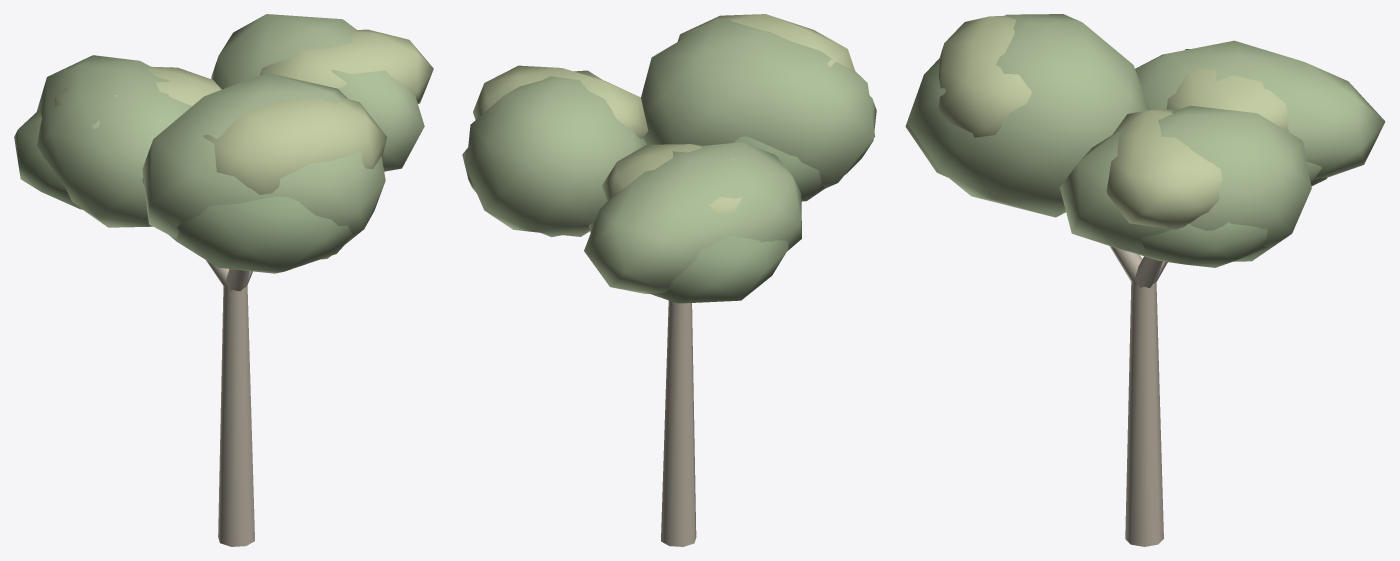
Rendered from tree_eucalyptus_0.glb.
The picture shows the model from 3 angles, left to right: view 1: azimuth 30°, elevation 25°; view 2: azimuth 150°, elevation 25°; view 3: azimuth 270°, elevation 25°; orthographic projection. The views are drawn at different scales.
Visible parts, largest first — view 1: tree_eucalyptus_0.glb; view 2: tree_eucalyptus_0.glb; view 3: tree_eucalyptus_0.glb.
Part boxes in pixels (x1,y1,x2,y2): tree_eucalyptus_0.glb: (14,14,433,546); tree_eucalyptus_0.glb: (462,14,876,546); tree_eucalyptus_0.glb: (905,14,1385,546).
Size of the model in its own units: 4.91 by 6.57 by 5.71.
